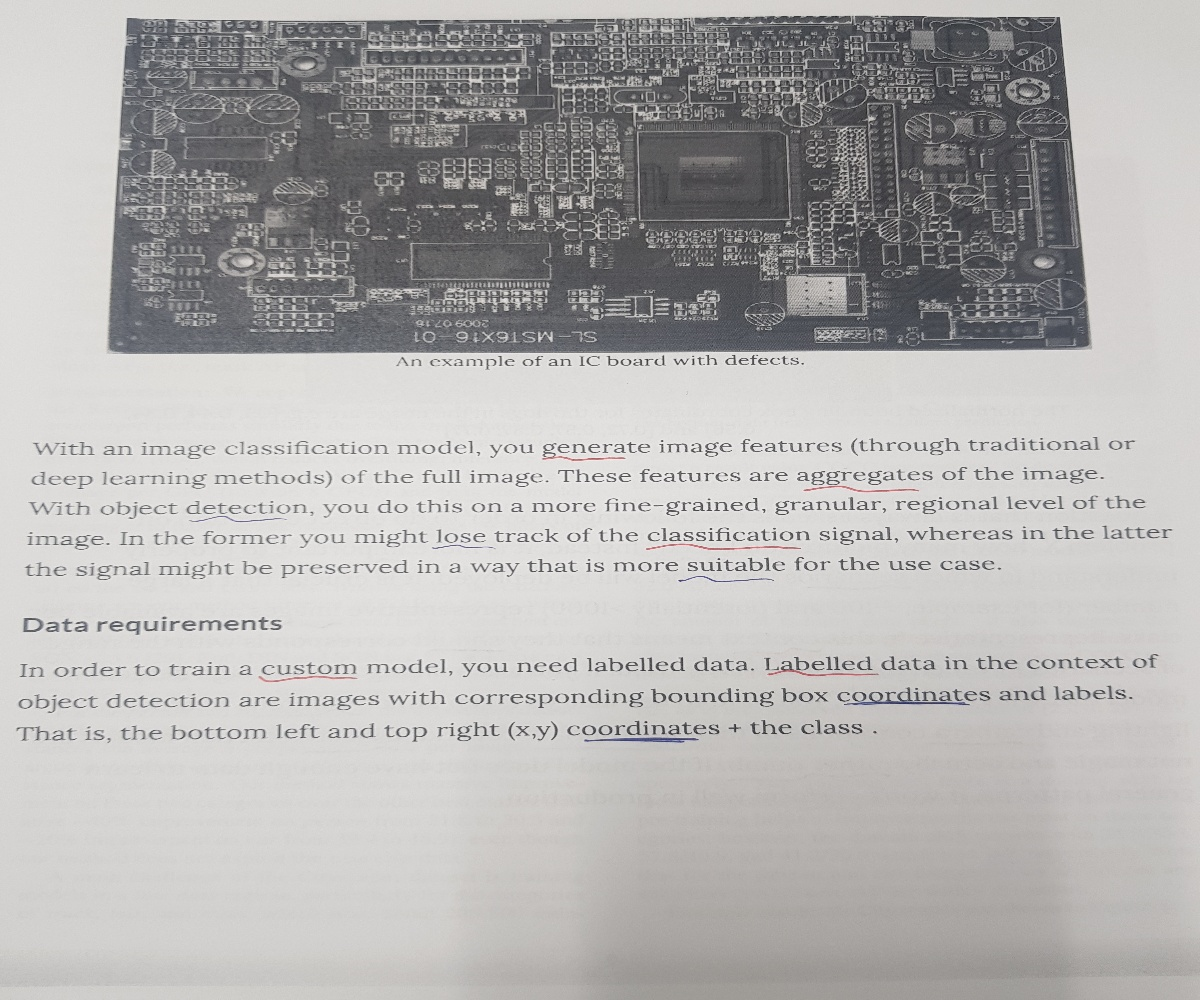underline: (643, 540, 801, 554), (764, 668, 882, 683), (577, 734, 700, 748), (799, 483, 920, 497), (673, 572, 778, 588), (255, 672, 361, 687), (186, 513, 292, 526), (538, 452, 628, 464), (842, 700, 972, 708), (429, 541, 496, 552)
